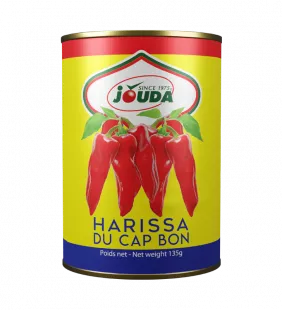JOUDA: (52, 20, 229, 284)
